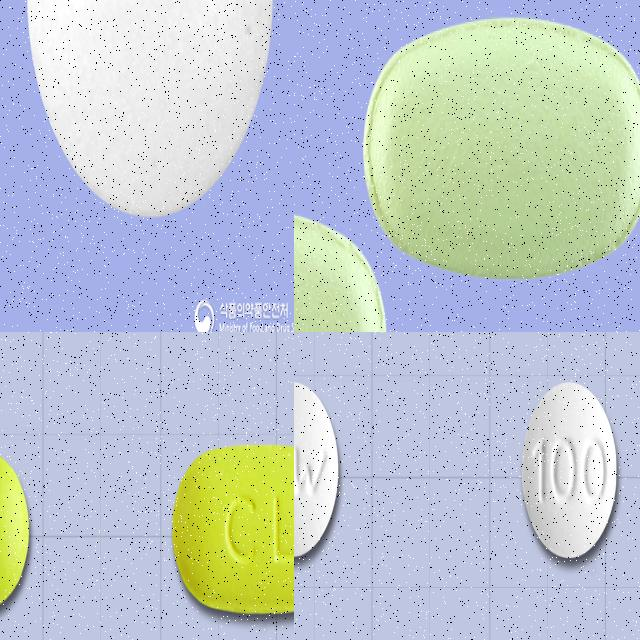Arava - 20mg: (23, 0, 276, 225)
Clarod: (361, 12, 640, 272)
Clathrocin -500mg: (171, 440, 294, 615)
Daewoong Levofloxacin: (520, 380, 618, 558), (294, 377, 339, 559)
